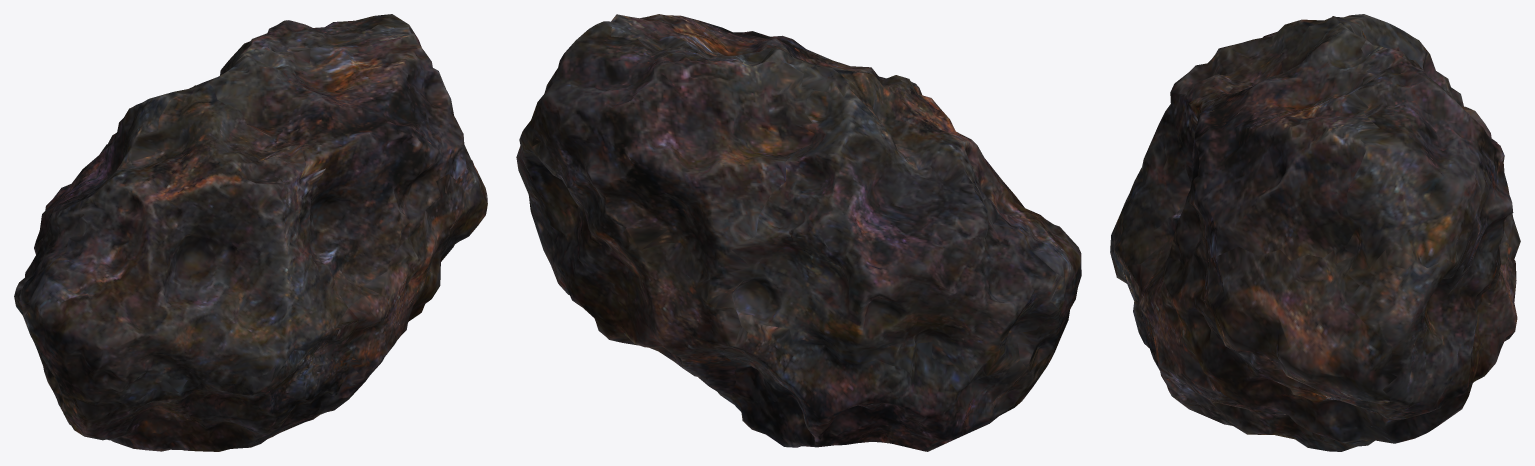
The model's file is asteroid1.obj.
3 renders of one model, left to right at view 1: azimuth 30°, elevation 25°; view 2: azimuth 150°, elevation 25°; view 3: azimuth 270°, elevation 25°, orthographic. The views are drawn at different scales.
Visible parts, largest first — view 1: asteroid1; view 2: asteroid1; view 3: asteroid1.
Part boxes in pixels (left/top/right/bottom): asteroid1: left=14, top=14, right=487, bottom=451; asteroid1: left=516, top=14, right=1081, bottom=451; asteroid1: left=1110, top=14, right=1520, bottom=451.
Bounding box in the file's own units: 1.81 × 1.29 × 1.15.
Materials: 1 (1 with a texture image).
